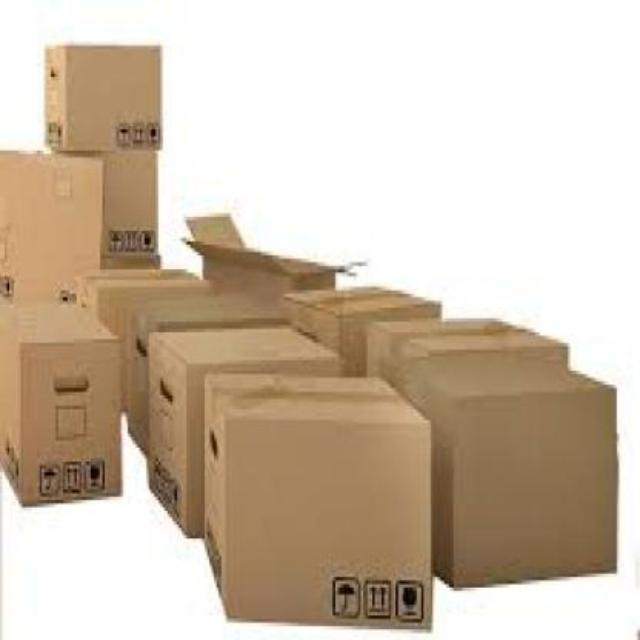cardboard_box: (204, 374, 436, 636), (144, 331, 356, 551), (409, 365, 615, 585), (383, 324, 581, 532), (133, 294, 311, 484), (175, 207, 361, 359), (0, 300, 124, 502), (286, 288, 436, 437), (80, 261, 208, 427), (0, 147, 106, 311), (40, 41, 174, 157)
